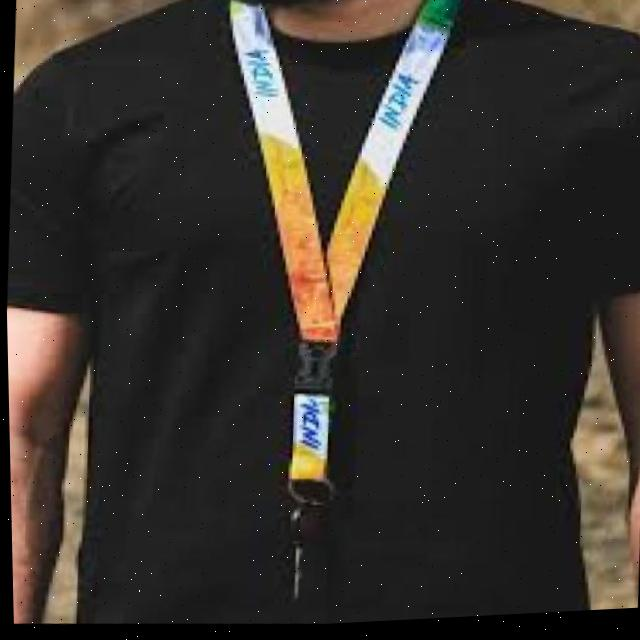id_card: (188, 3, 475, 624)
